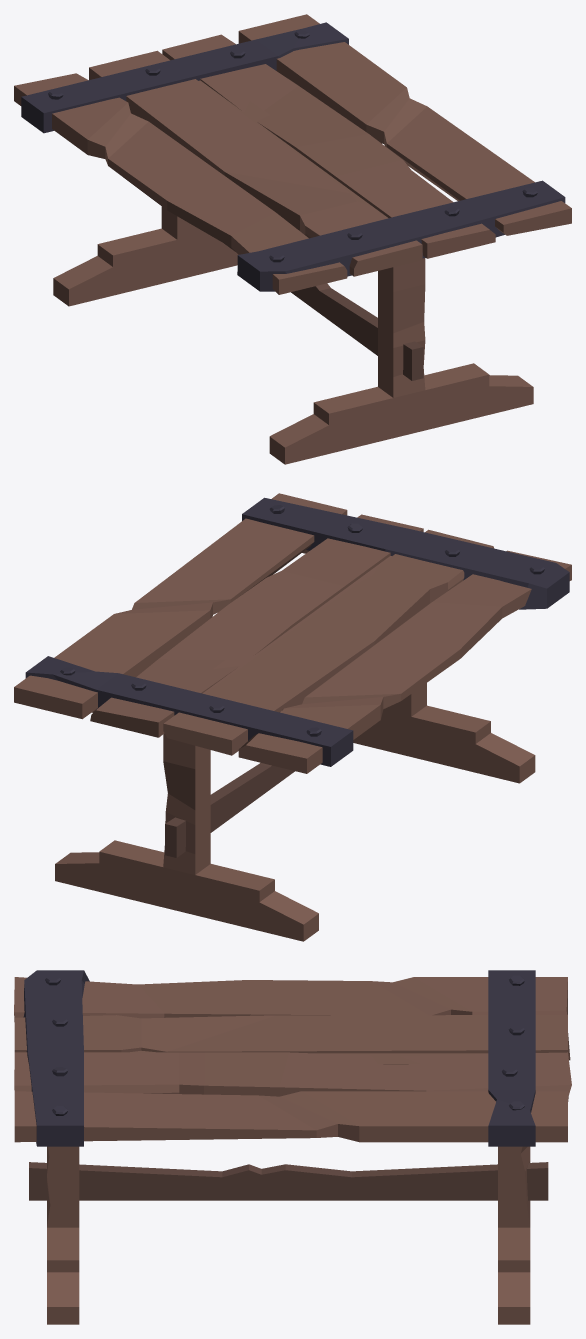
File: Dungeon_Table_Small.glb
The picture shows the model from 3 angles, top to bottom: view 1: azimuth 30°, elevation 25°; view 2: azimuth 150°, elevation 25°; view 3: azimuth 270°, elevation 25°; orthographic projection. The views are drawn at different scales.
Visible parts, largest first — view 1: Table_Small; view 2: Table_Small; view 3: Table_Small.
Boxes of the visible parts, x1,y1,x2,y2 form: Table_Small: [14, 14, 571, 464]; Table_Small: [14, 493, 571, 941]; Table_Small: [14, 970, 571, 1324].
Bounding box in the file's own units: 1.31 × 0.8539 × 1.98.
